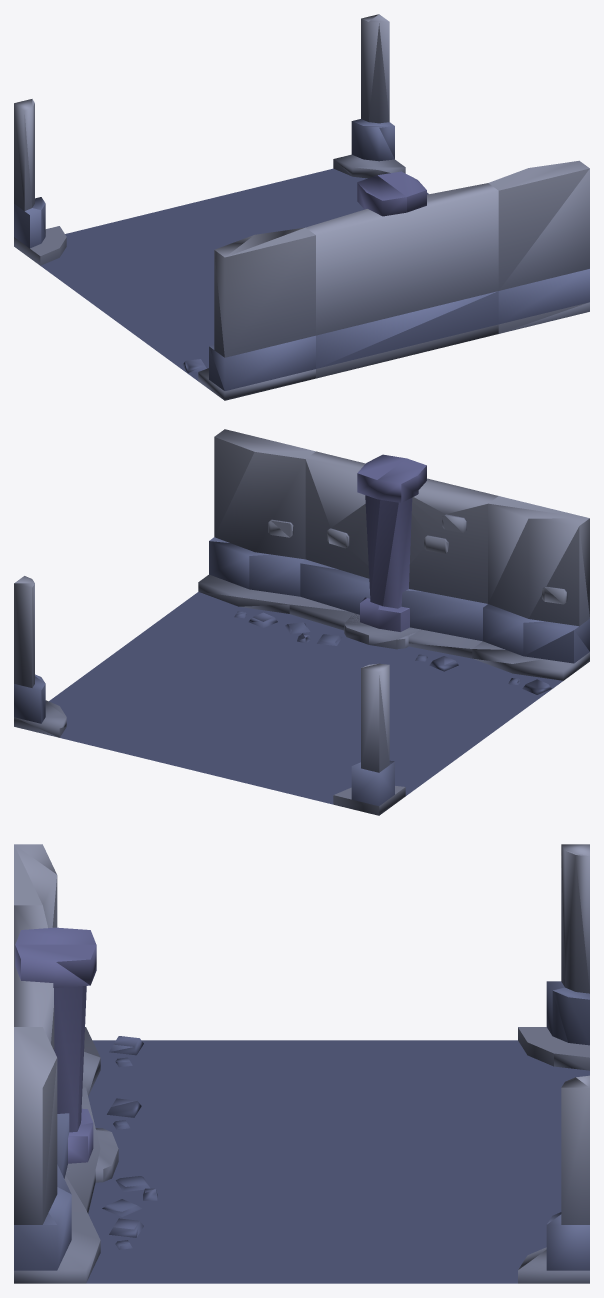
The model's file is corridor-wide-junction_lev2.glb.
3 views of the same model, one above another, from view 1: azimuth 30°, elevation 25°; view 2: azimuth 150°, elevation 25°; view 3: azimuth 270°, elevation 25° (orthographic). The views are drawn at different scales.
Visible parts, largest first — view 1: corridor-wide-junction_lev2; view 2: corridor-wide-junction_lev2; view 3: corridor-wide-junction_lev2.
Part boxes in pixels (x1,y1,x2,y2): corridor-wide-junction_lev2: (14, 14, 589, 400); corridor-wide-junction_lev2: (14, 429, 589, 815); corridor-wide-junction_lev2: (14, 844, 589, 1283).
Size of the model in its own units: 8 by 3.33 by 8.
Materials: 1 (1 with a texture image).
